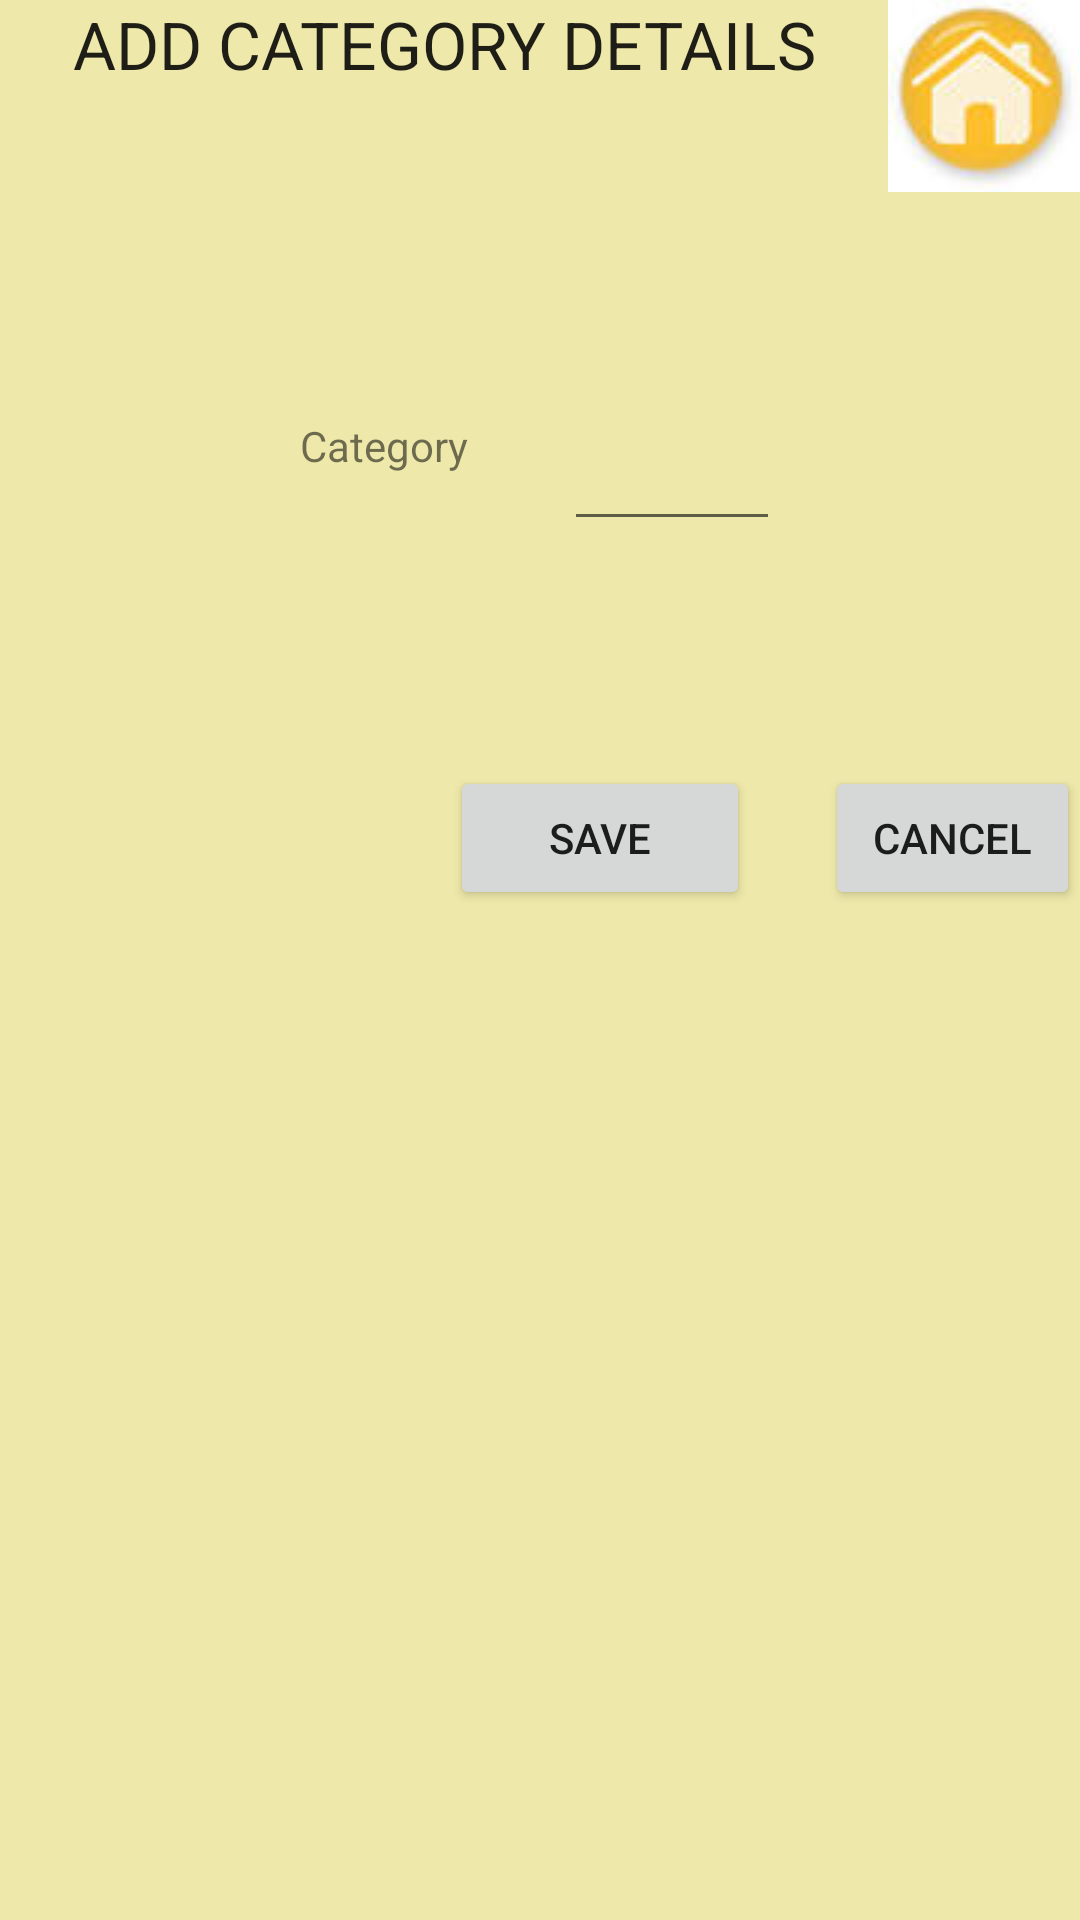

Locate icon controls on the screen. Image size 1080px x 1920px, boxes as (x1, y1, x2, y2).
home: (888, 0, 1080, 192)
